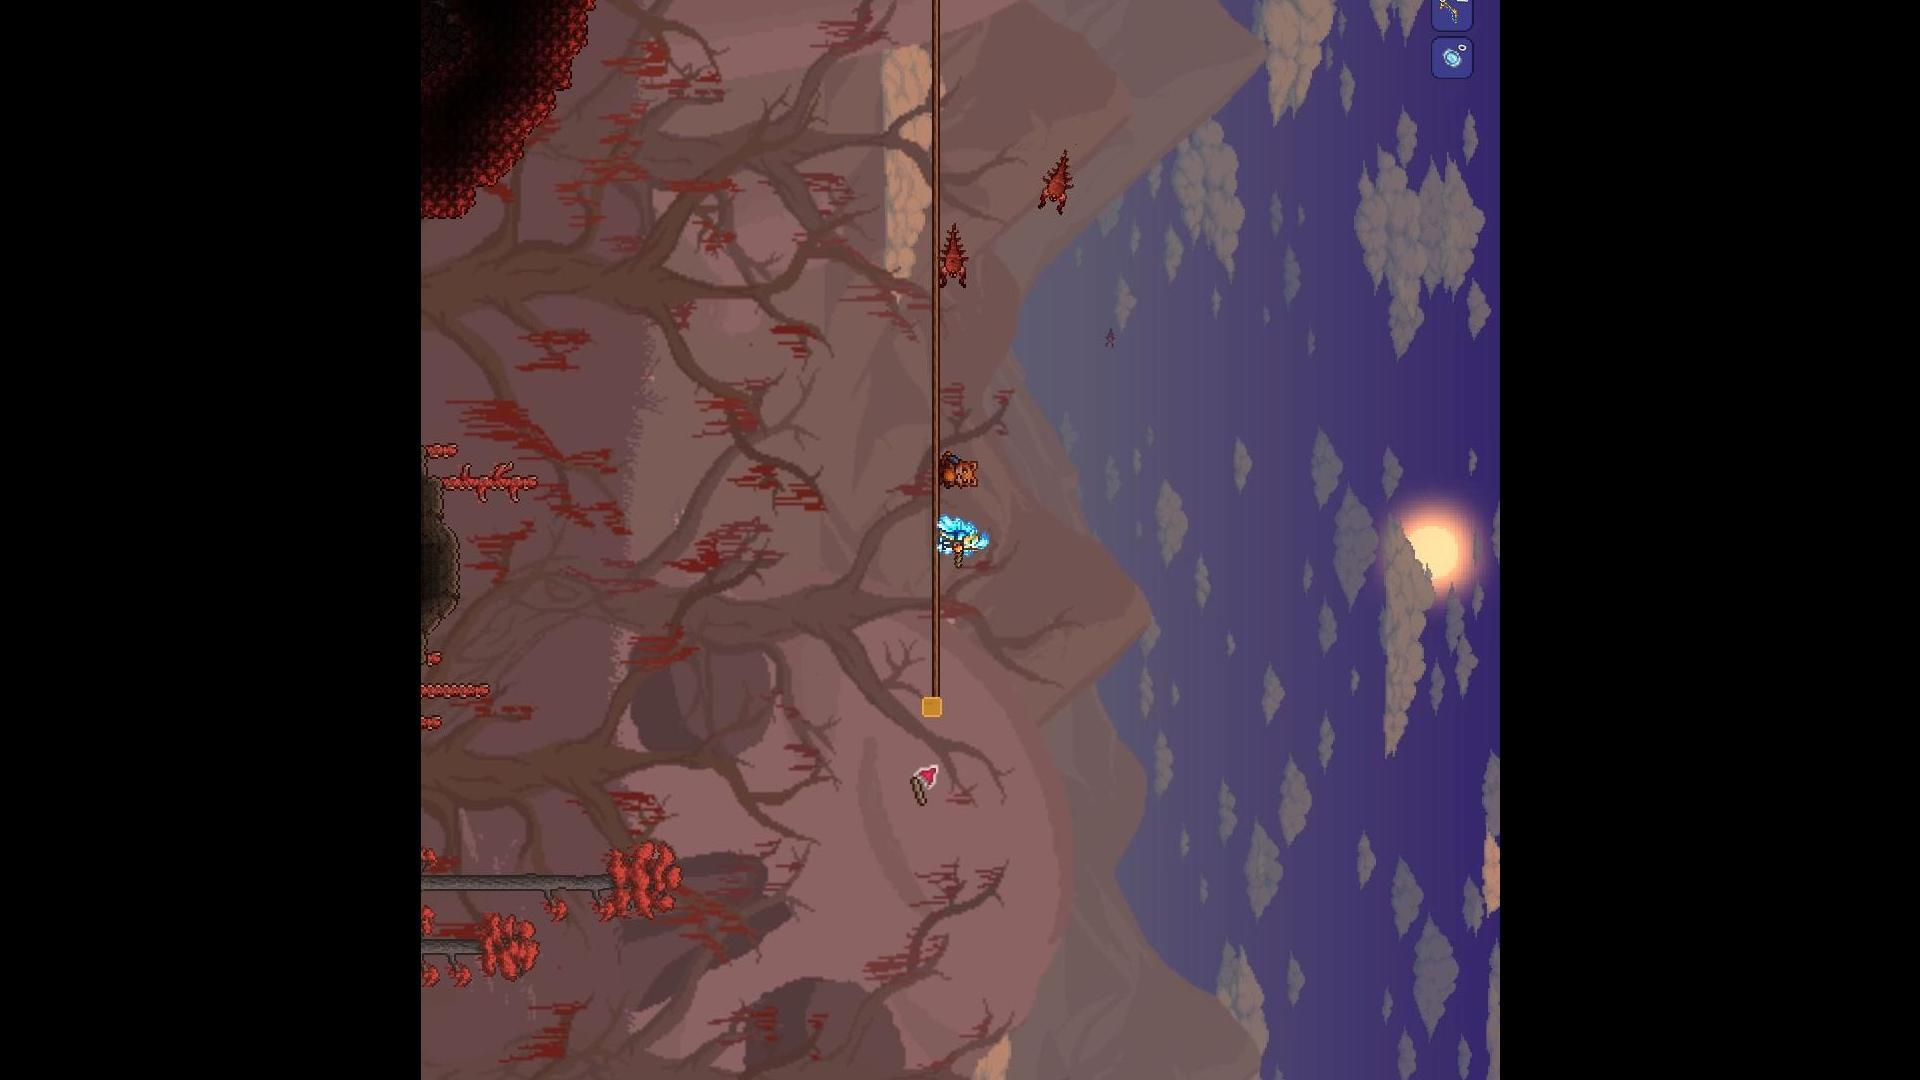crimera: (1029, 142, 1079, 218), (931, 220, 975, 294)
